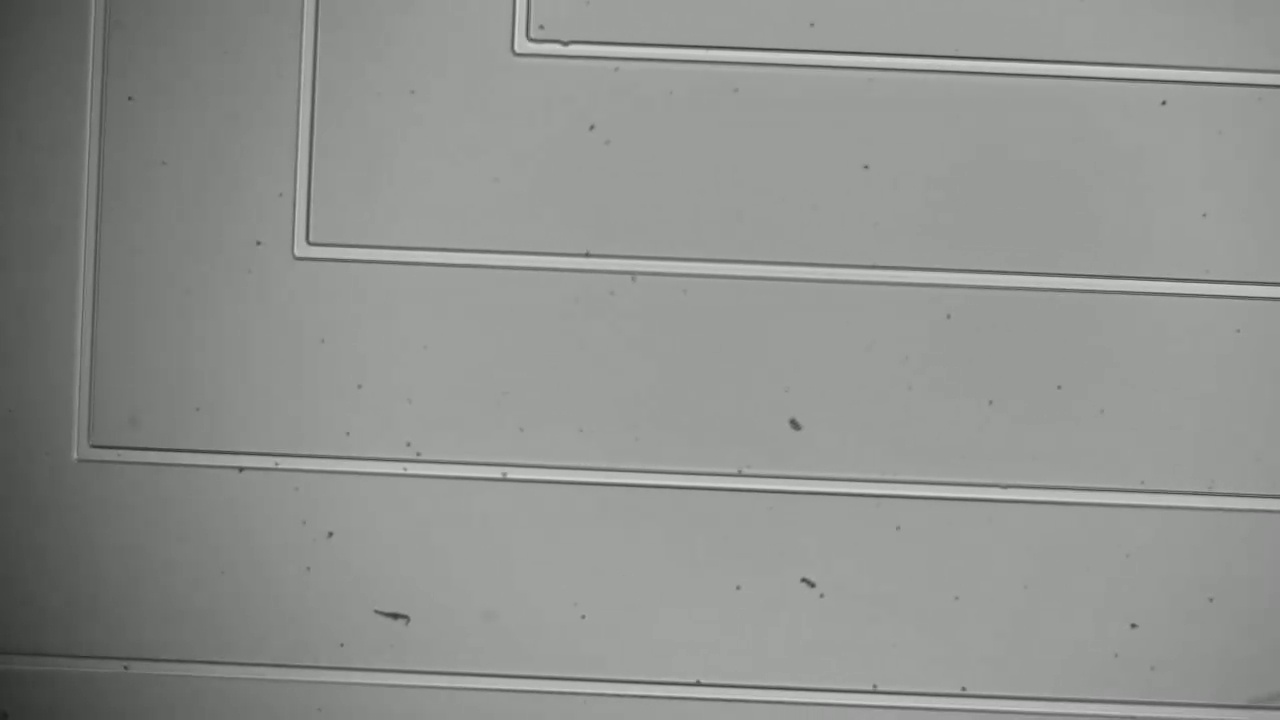edge_bite: (548, 35, 583, 74)
